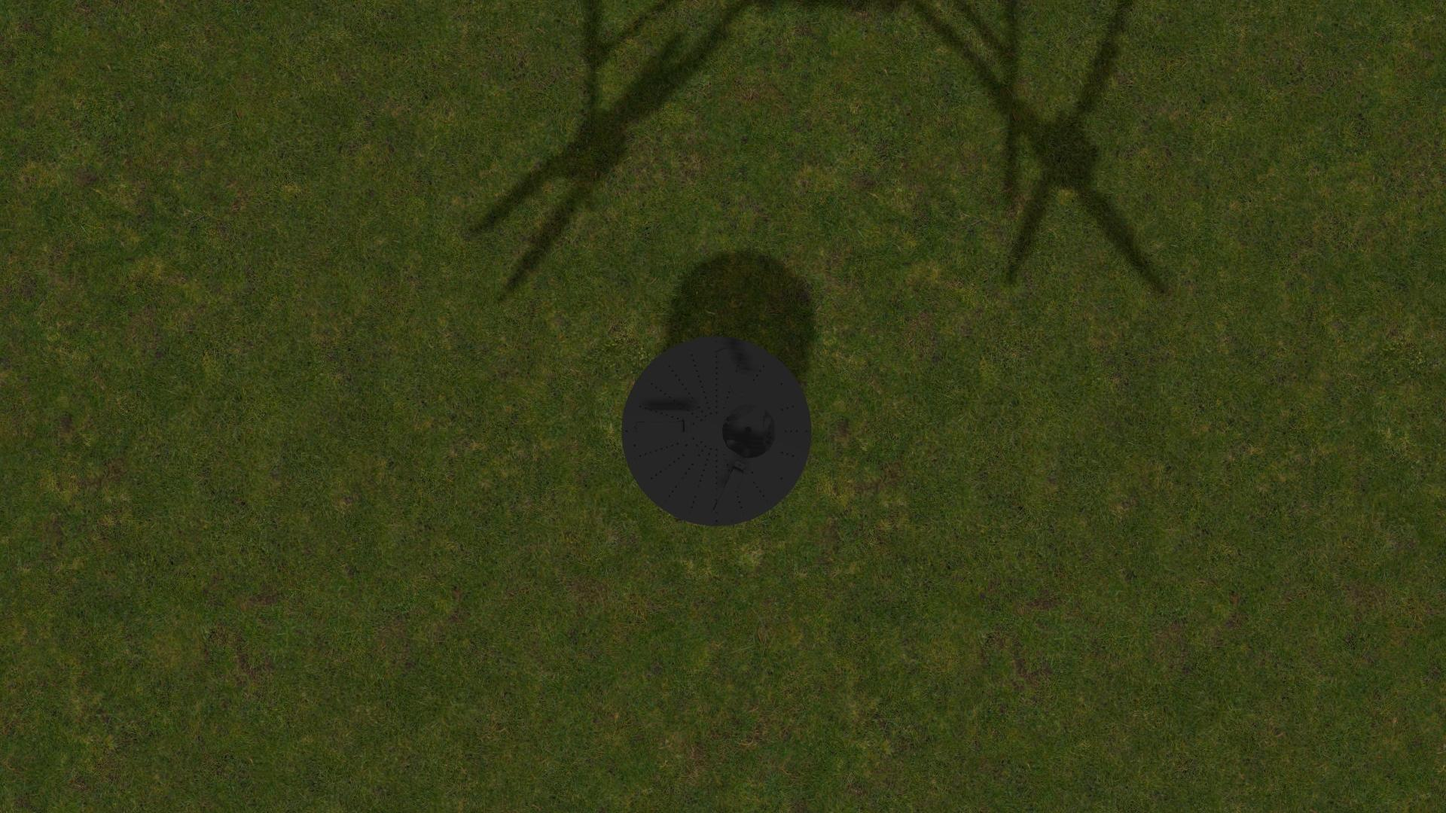alca: (710, 459, 746, 518), (714, 343, 746, 401), (631, 420, 691, 434)
armadilha: (621, 336, 812, 527)
